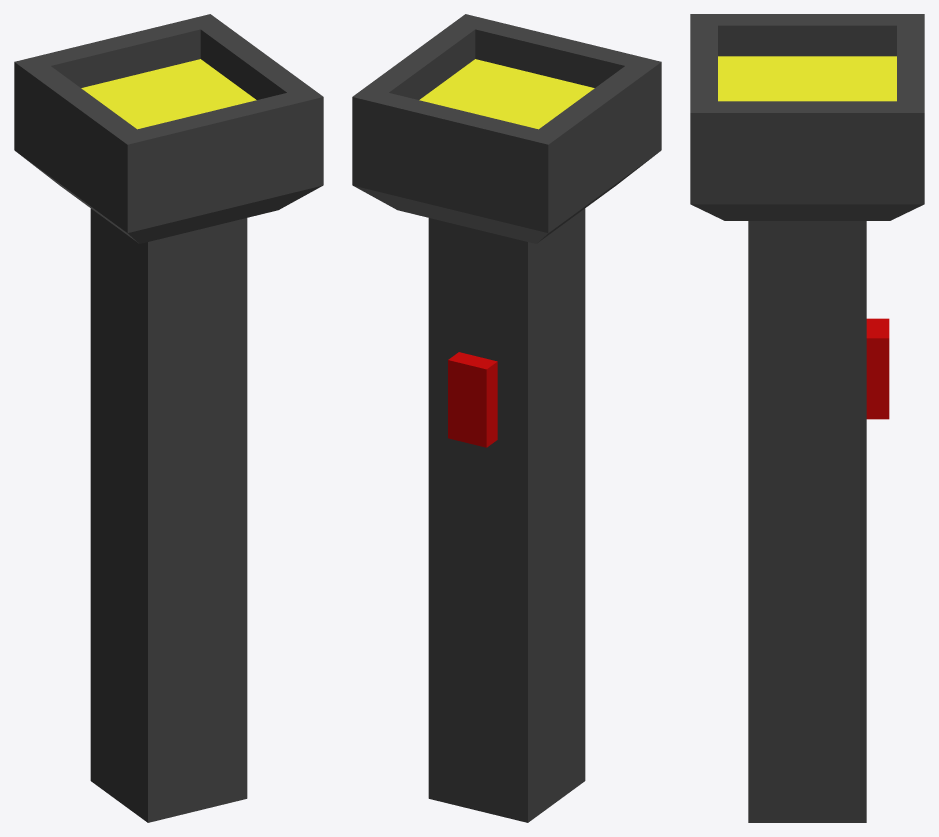
Rendered from Flashlight.fbx.
The picture shows the model from 3 angles, left to right: view 1: azimuth 30°, elevation 25°; view 2: azimuth 150°, elevation 25°; view 3: azimuth 270°, elevation 25°; orthographic projection. The views are drawn at different scales.
Visible parts, largest first — view 1: Flashlight; view 2: Flashlight; view 3: Flashlight.
Part boxes in pixels (box(x1,y1,x2,y2)): Flashlight: box(14, 14, 323, 822); Flashlight: box(352, 14, 661, 822); Flashlight: box(690, 14, 924, 822).
Bounding box in the file's own units: 0.085 × 0.2943 × 0.085.
